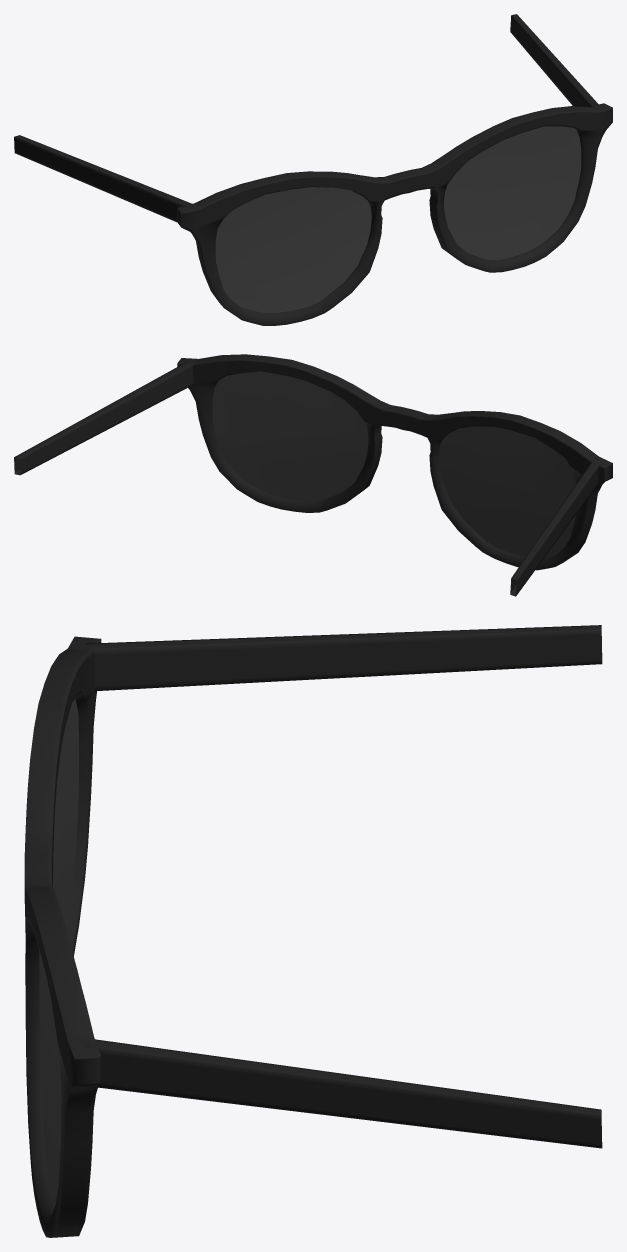
Rendered from Glasses_017.glb.
3 renders of one model, top to bottom at view 1: azimuth 30°, elevation 25°; view 2: azimuth 150°, elevation 25°; view 3: azimuth 270°, elevation 25°, orthographic. The views are drawn at different scales.
Parts seen in each view (by area): view 1: Glasses_017; view 2: Glasses_017; view 3: Glasses_017.
Part boxes in pixels (x1,y1,x2,y2): Glasses_017: [14, 14, 612, 325]; Glasses_017: [14, 354, 612, 596]; Glasses_017: [24, 625, 602, 1237].
Size of the model in its own units: 0.413 by 0.1141 by 0.2054.
Materials: 1 (1 with a texture image).
